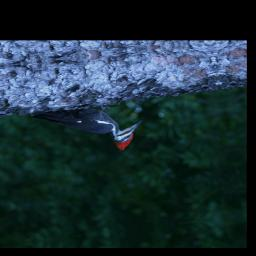Woodpecker: (24, 97, 150, 161)
